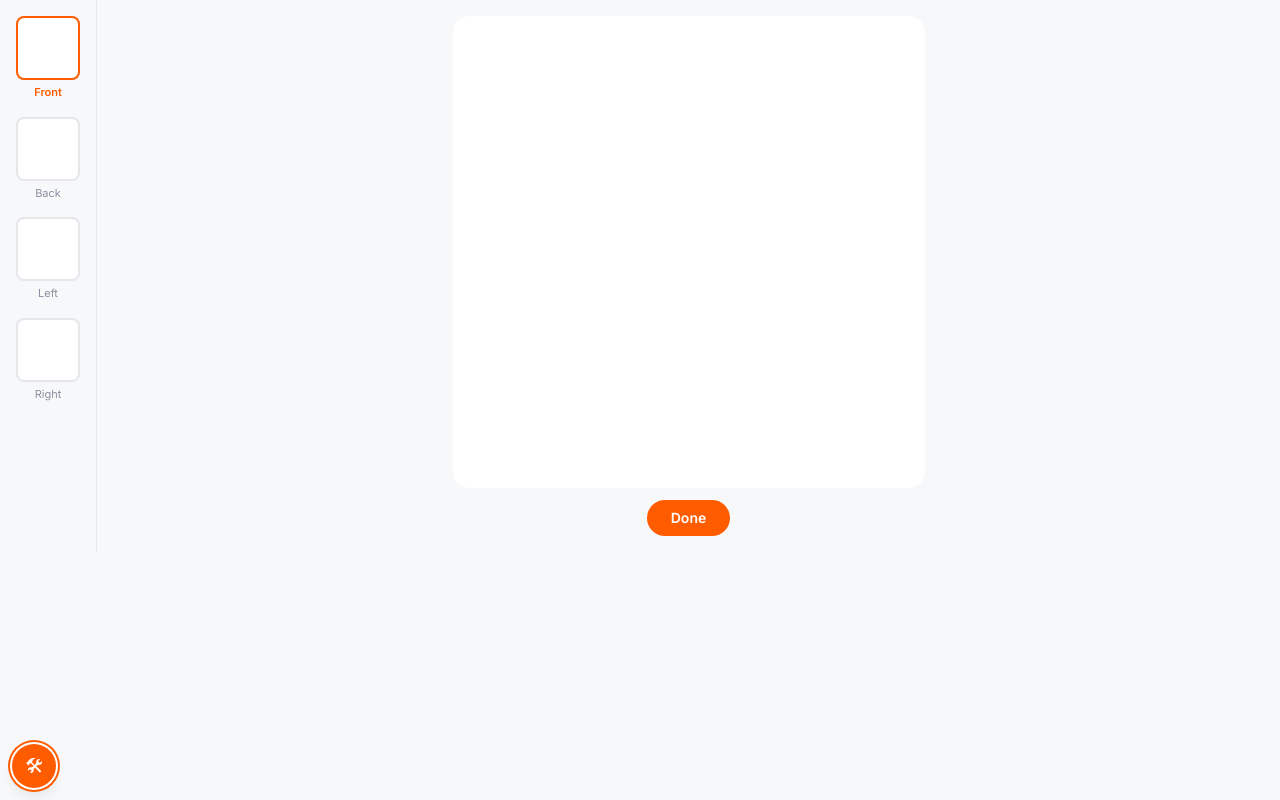
Test case: mobile: the tool rail is collapsed by default and the floating button reveals/hides it
Expected: the button "upload image" is not shown
What coordinates should you click on to do the following:
click the button with test id "mobile-tools-toggle"
I would click on:
 (34, 766)
Its box is [12, 744, 56, 788].
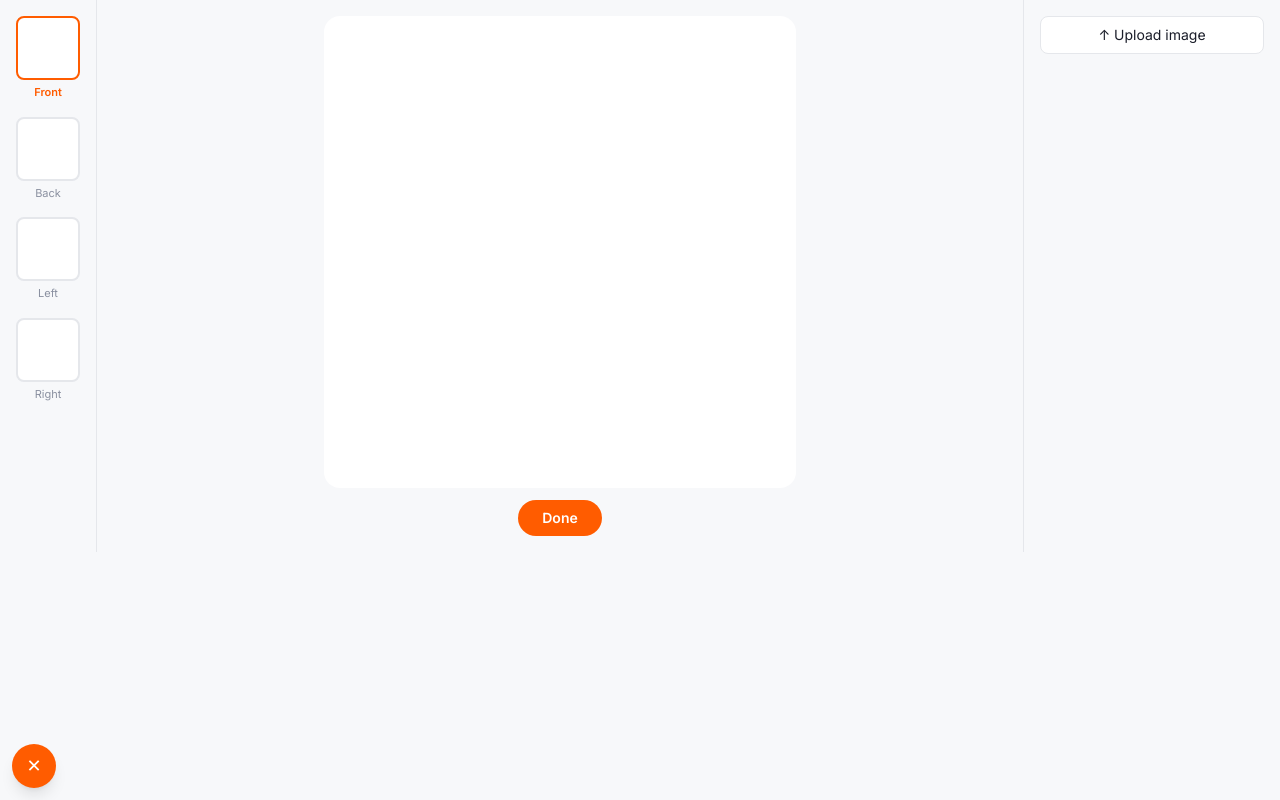
Expected: the button "↑ Upload image" is shown, [1040, 16, 1264, 54]
// Toggling again hides it — the button stays around to close it back up.
What coordinates should you click on to do the following:
click the button with test id "mobile-tools-toggle"
I would click on:
 (34, 766)
Its box is [12, 744, 56, 788].
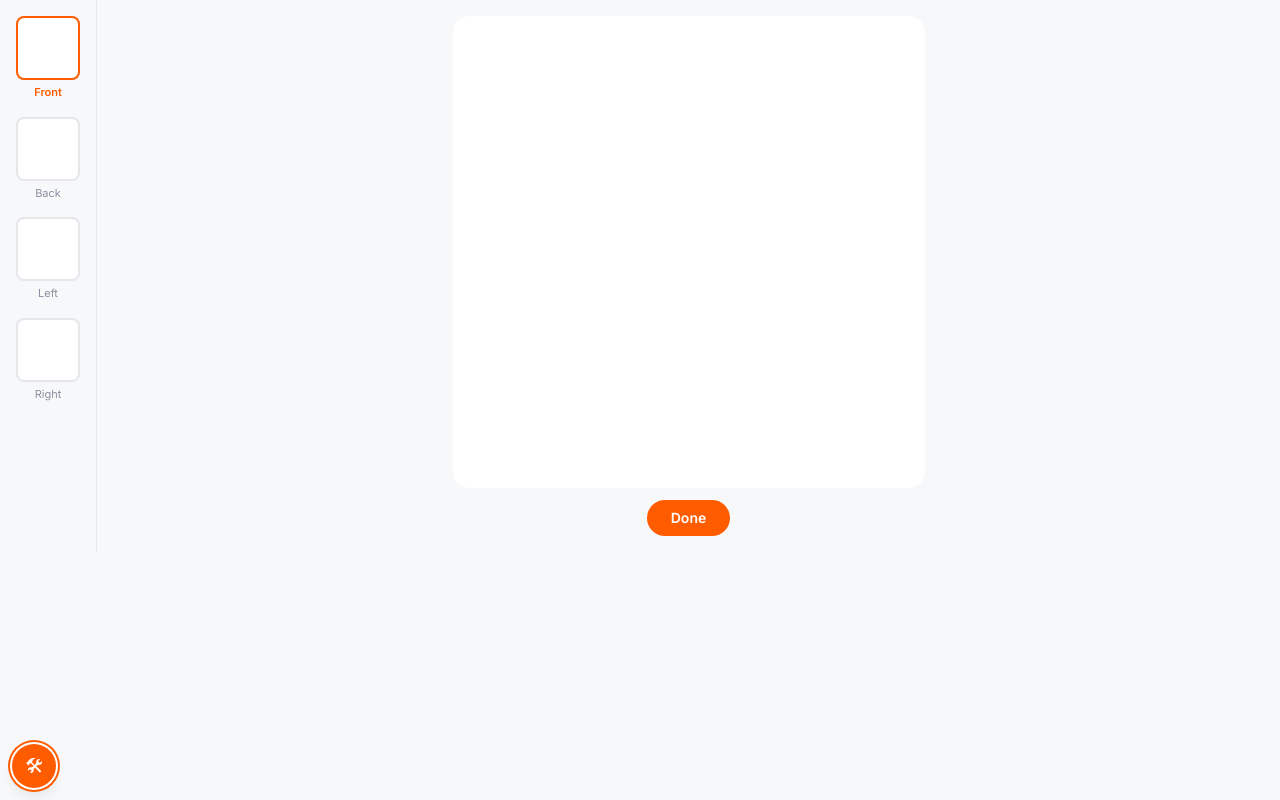
Expected: the button "Upload image" is gone
